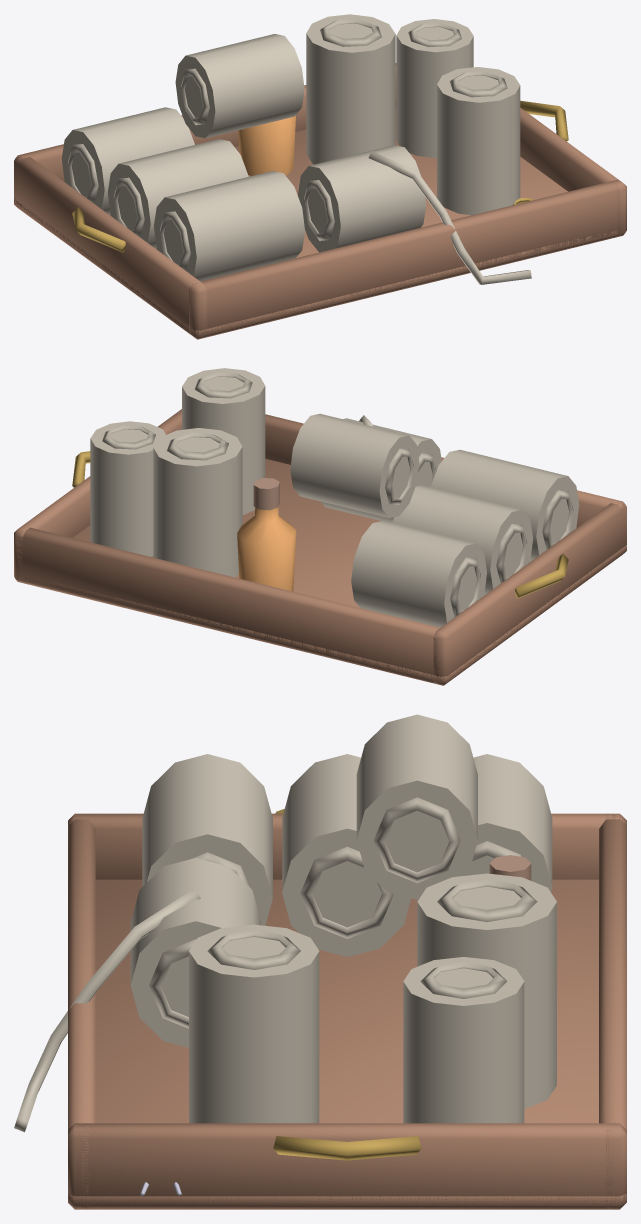
Rendered from bandage_rolls.glb.
3 renders of one model, top to bottom at view 1: azimuth 30°, elevation 25°; view 2: azimuth 150°, elevation 25°; view 3: azimuth 270°, elevation 25°, orthographic. The views are drawn at different scales.
Visible parts, largest first — view 1: bandage_rolls; view 2: bandage_rolls; view 3: bandage_rolls.
Part boxes in pixels (<box>): bandage_rolls: <box>14,14,626,339</box>; bandage_rolls: <box>14,368,626,685</box>; bandage_rolls: <box>14,714,626,1209</box>.
Size of what is drawn, in the model's own units: 0.35 by 0.12 by 0.25.
